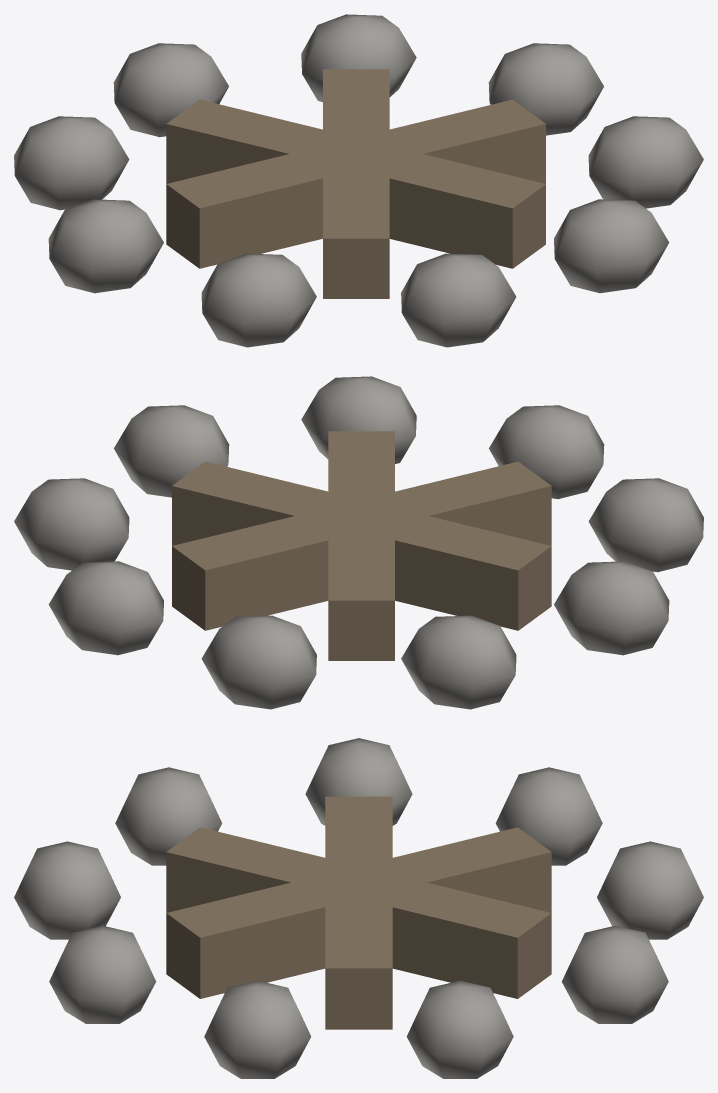
Rendered from NAT_CampfireCold.fbx.
The picture shows the model from 3 angles, top to bottom: view 1: azimuth 30°, elevation 25°; view 2: azimuth 150°, elevation 25°; view 3: azimuth 270°, elevation 25°; orthographic projection.
Parts seen in each view (by area): view 1: NAT_CampfireCold_MAT_IslandRock, NAT_CampfireCold_ENV_Bark; view 2: NAT_CampfireCold_MAT_IslandRock, NAT_CampfireCold_ENV_Bark; view 3: NAT_CampfireCold_MAT_IslandRock, NAT_CampfireCold_ENV_Bark.
Part boxes in pixels (x1,y1,x2,y2): NAT_CampfireCold_MAT_IslandRock: (14, 14, 703, 347); NAT_CampfireCold_ENV_Bark: (166, 69, 545, 298); NAT_CampfireCold_MAT_IslandRock: (14, 376, 703, 709); NAT_CampfireCold_ENV_Bark: (172, 431, 551, 660); NAT_CampfireCold_MAT_IslandRock: (14, 738, 703, 1078); NAT_CampfireCold_ENV_Bark: (166, 796, 551, 1029).
Bounding box in the file's own units: 164 × 23 × 163.
